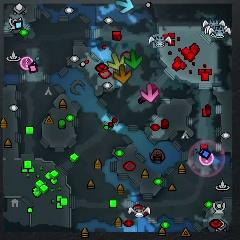Other: (20, 56, 35, 72), (199, 151, 214, 166)
x1: (140, 83, 158, 101)
x2: (107, 51, 125, 72)
x3: (115, 0, 135, 15)
x4: (125, 50, 143, 71)
x5: (113, 64, 132, 85)
